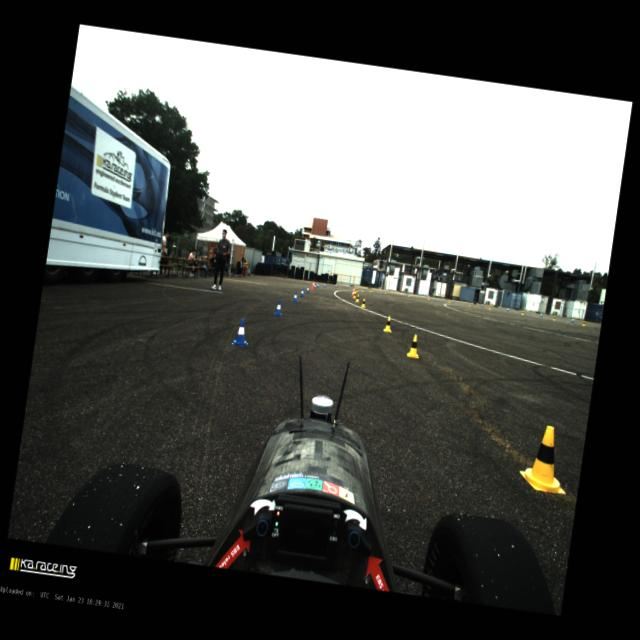blue_cone: (231, 318, 252, 347), (274, 300, 284, 316), (292, 292, 299, 304), (305, 286, 310, 294), (300, 288, 304, 297), (571, 317, 575, 323), (334, 284, 338, 288), (540, 313, 543, 318), (314, 284, 316, 290), (316, 284, 319, 288), (324, 283, 326, 288), (346, 284, 348, 288), (481, 304, 483, 308), (507, 308, 509, 311), (407, 292, 408, 296), (453, 300, 454, 302), (364, 287, 364, 290)
large_orange_cone: (311, 280, 316, 290), (352, 286, 356, 296)
yellow_cone: (518, 422, 576, 496), (406, 334, 422, 359), (382, 315, 393, 333), (361, 298, 366, 308), (355, 294, 361, 302), (353, 292, 357, 298), (582, 321, 586, 326), (488, 305, 492, 310), (521, 310, 524, 316), (468, 302, 472, 306), (553, 316, 556, 321), (369, 288, 372, 292), (448, 300, 451, 304), (408, 292, 411, 296), (354, 288, 356, 293), (356, 288, 358, 292), (362, 288, 364, 292), (428, 296, 430, 300), (386, 290, 386, 294)
